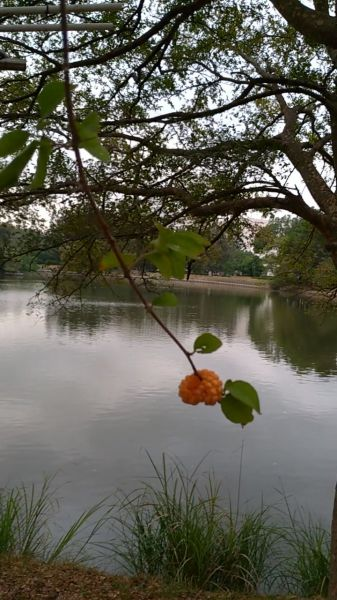eggs: (175, 361, 230, 411)
